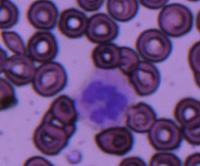N: (76, 68, 136, 129)
